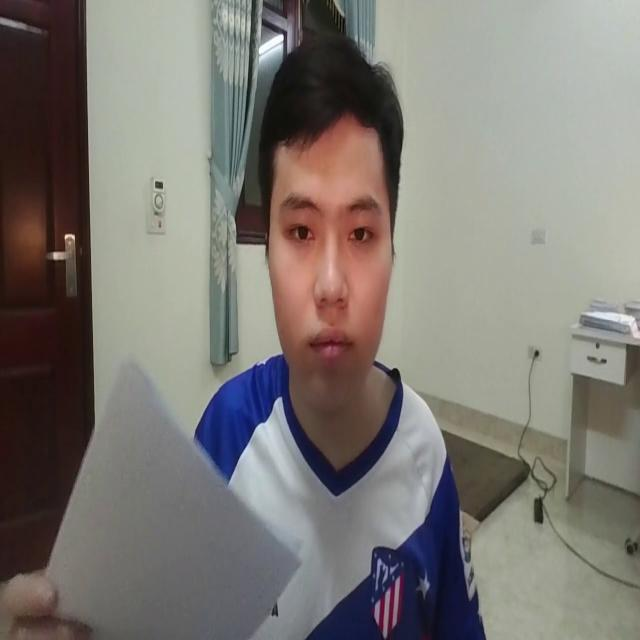book: (26, 330, 306, 640)
student: (158, 22, 494, 640)
